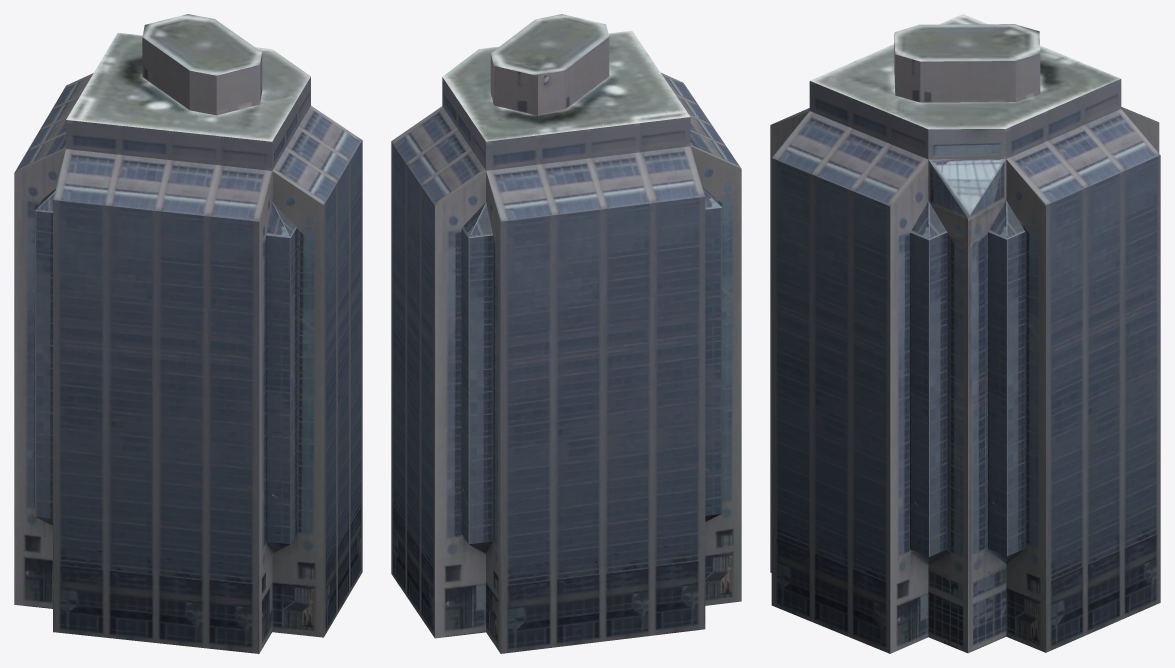
Rendered from purdys_wharf.glb.
3 views of the same model, side by side, from view 1: azimuth 30°, elevation 25°; view 2: azimuth 150°, elevation 25°; view 3: azimuth 270°, elevation 25° (orthographic). The views are drawn at different scales.
Size of the model in its own units: 51.02 by 87.78 by 56.57.
Materials: 64 (64 with a texture image).
